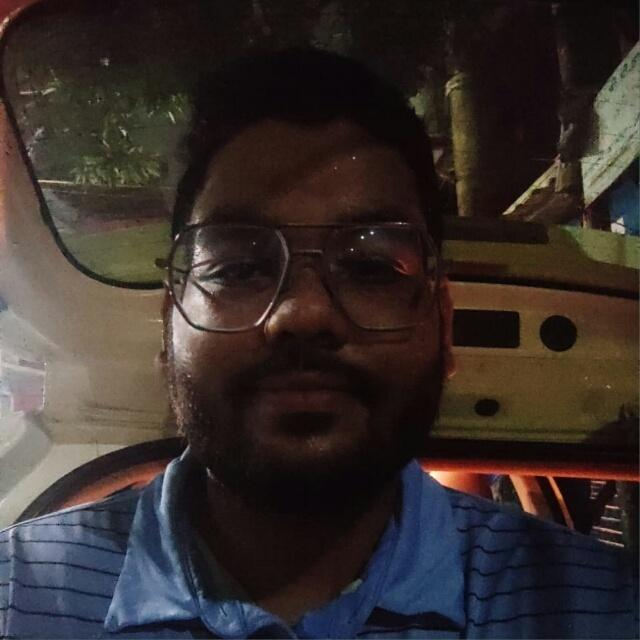Happy: (115, 119, 473, 568)
